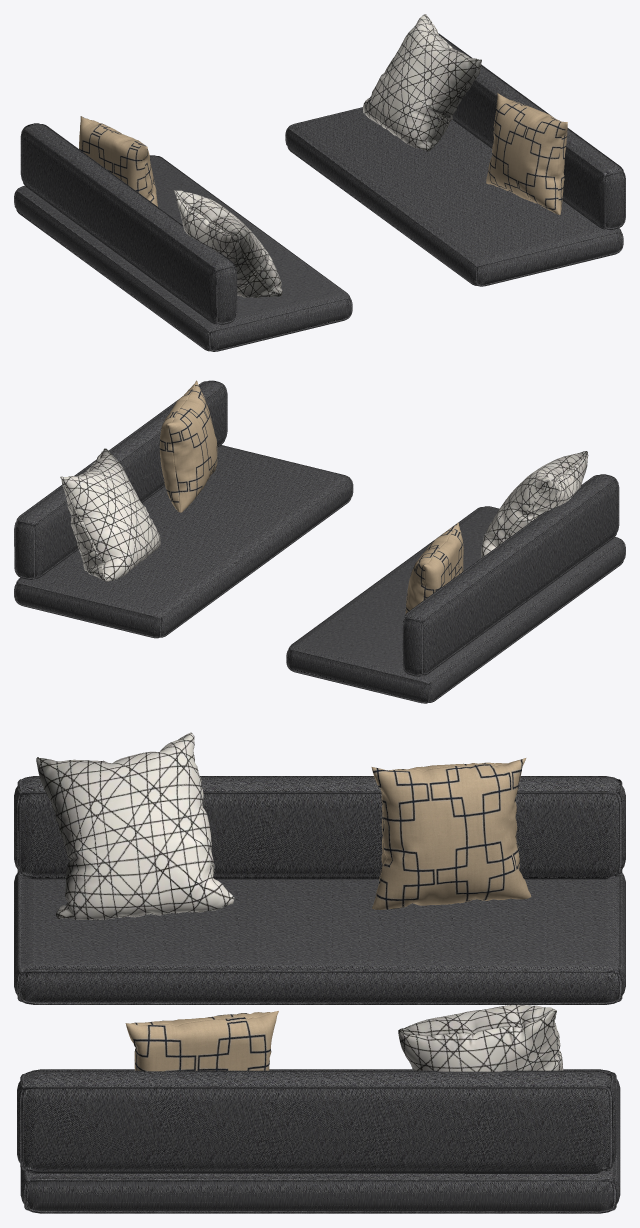
The model's file is cushion-one.glb.
The picture shows the model from 3 angles, top to bottom: view 1: azimuth 30°, elevation 25°; view 2: azimuth 150°, elevation 25°; view 3: azimuth 270°, elevation 25°; orthographic projection. The views are drawn at different scales.
Parts seen in each view (by area): view 1: trunk_part_39.004; view 2: trunk_part_39.004; view 3: trunk_part_39.004.
Part boxes in pixels (left/top/right/bottom): trunk_part_39.004: left=14, top=14, right=625, bottom=351; trunk_part_39.004: left=14, top=380, right=625, bottom=703; trunk_part_39.004: left=14, top=732, right=625, bottom=1213.
Bounding box in the file's own units: 1.71 × 0.4689 × 1.39.
Materials: 3 (3 with a texture image).
